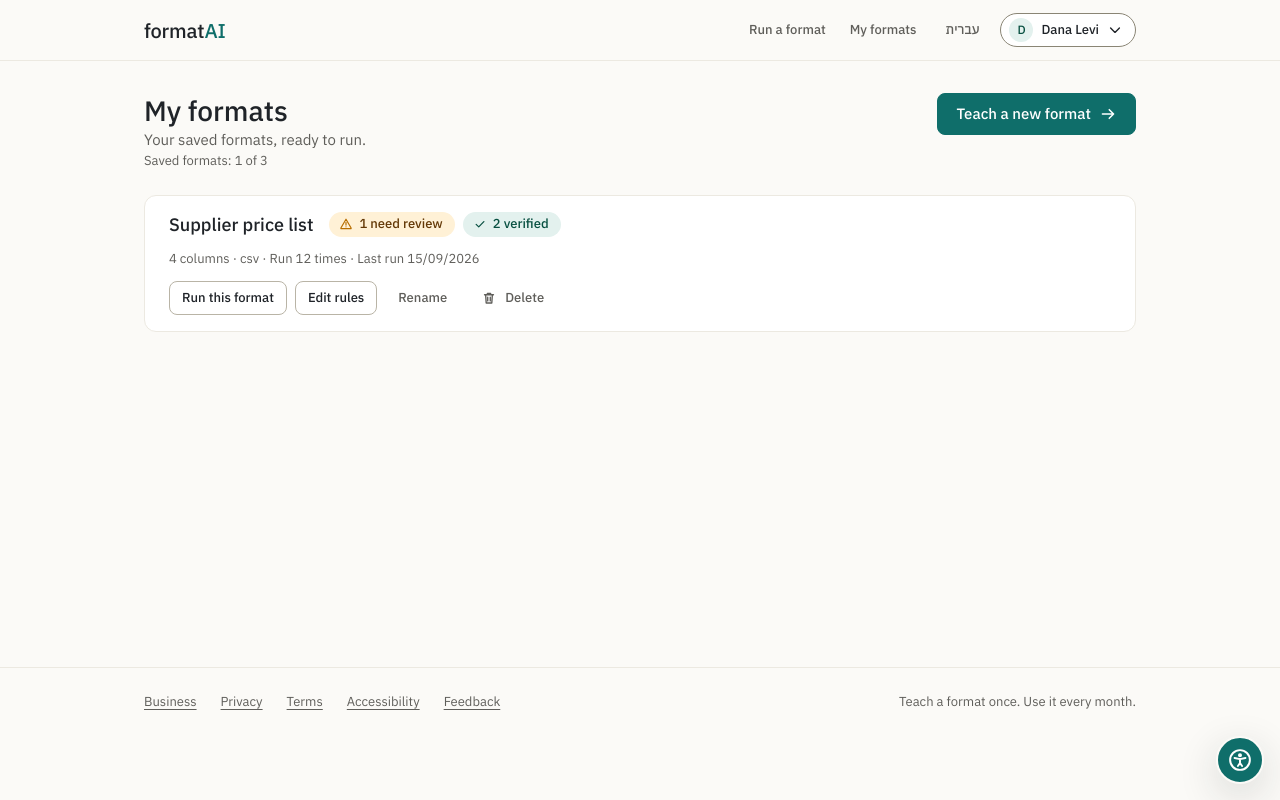
My formats › rename › Enter saves, an unchanged or empty name just closes, and a failure says so
Expected: the list with test id "format-list" is shown, [144,195,1136,332]
Click the button "Rename".
click(423, 298)  # box [385,281,460,315]
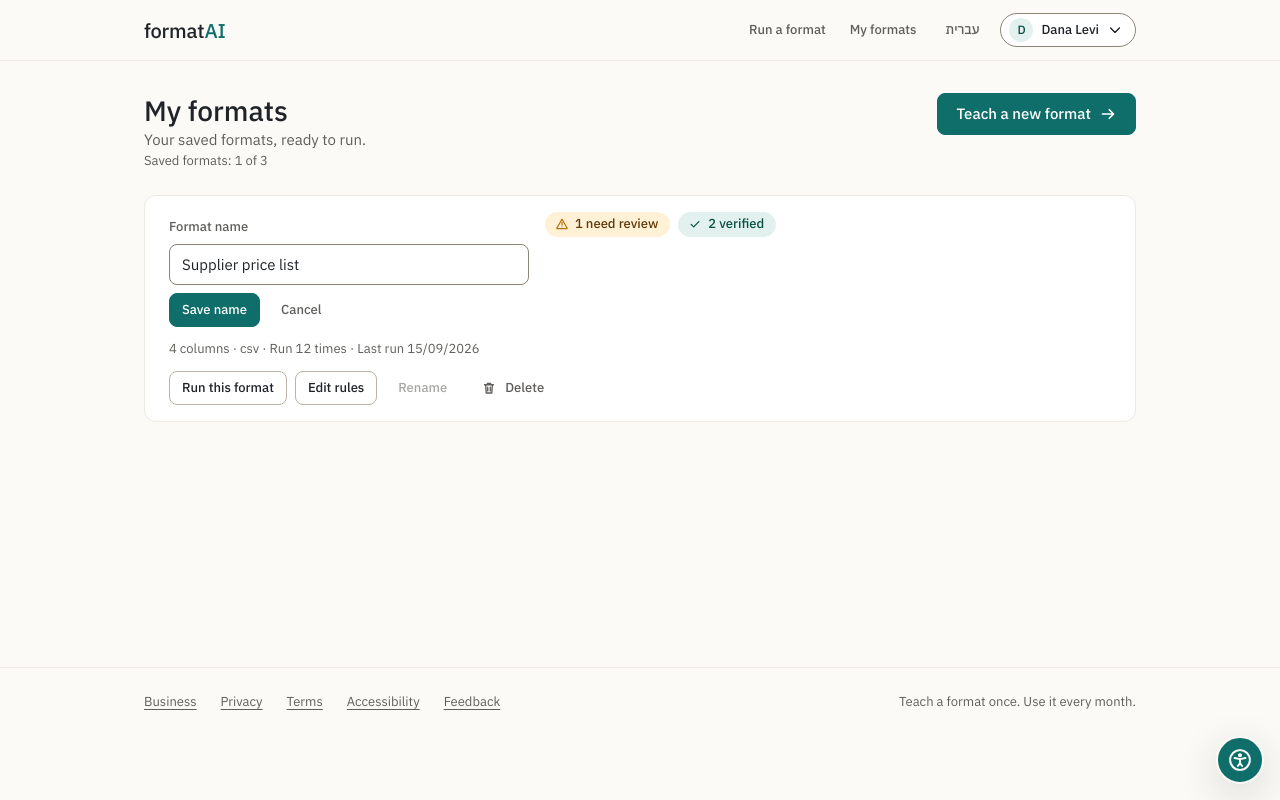
Click the button "Save name".
click(214, 310)  # box [169,293,260,327]
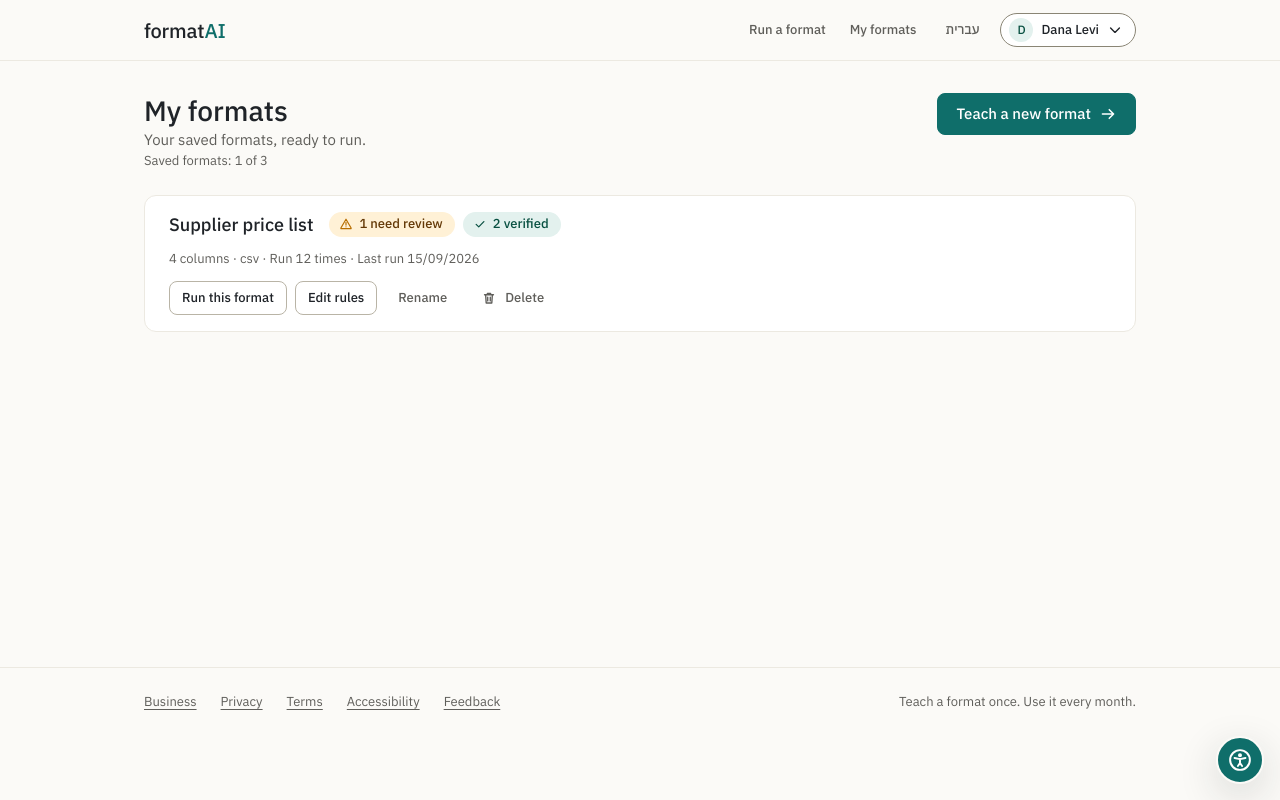
Expected: the label labelled "Format name" is gone
Click the button "Rename".
click(423, 298)  # box [385,281,460,315]
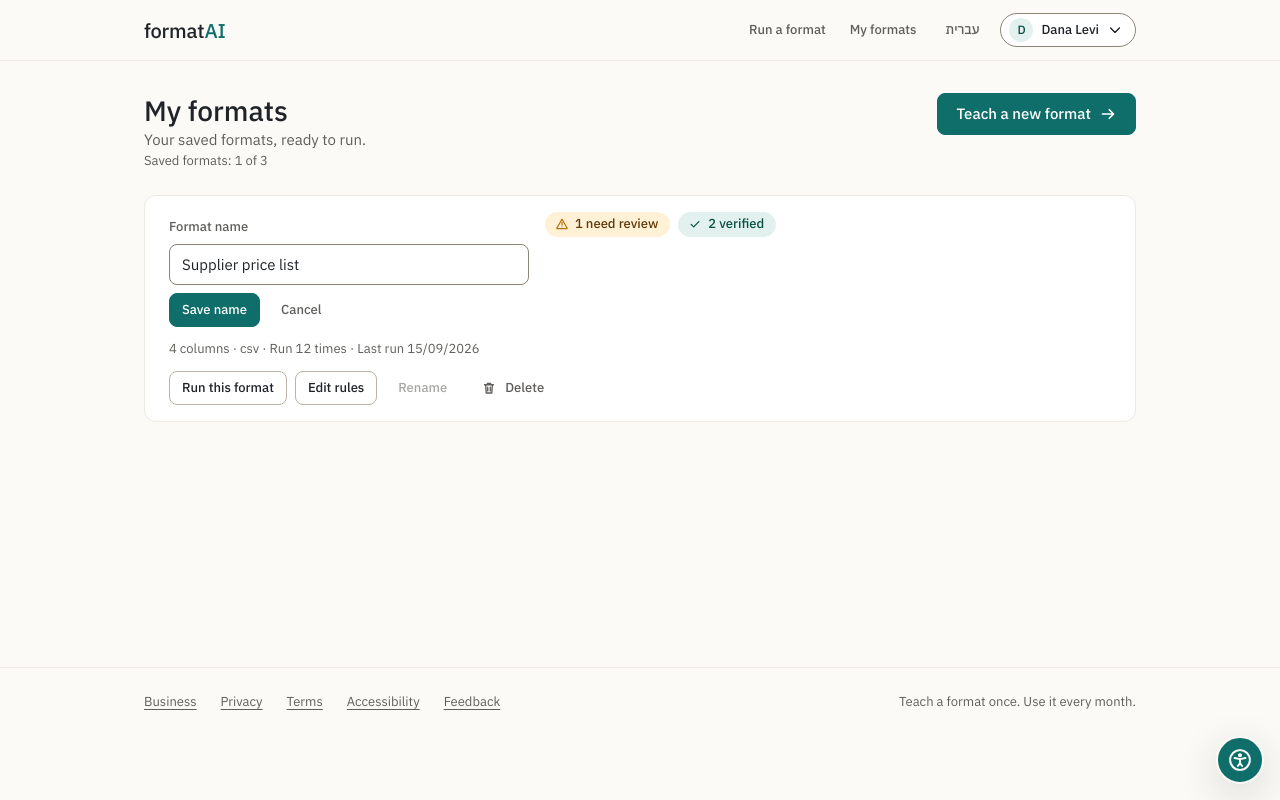
Replace the text in the field labelled "Format name" with "Another" at (349, 264), box [169,244,529,285]
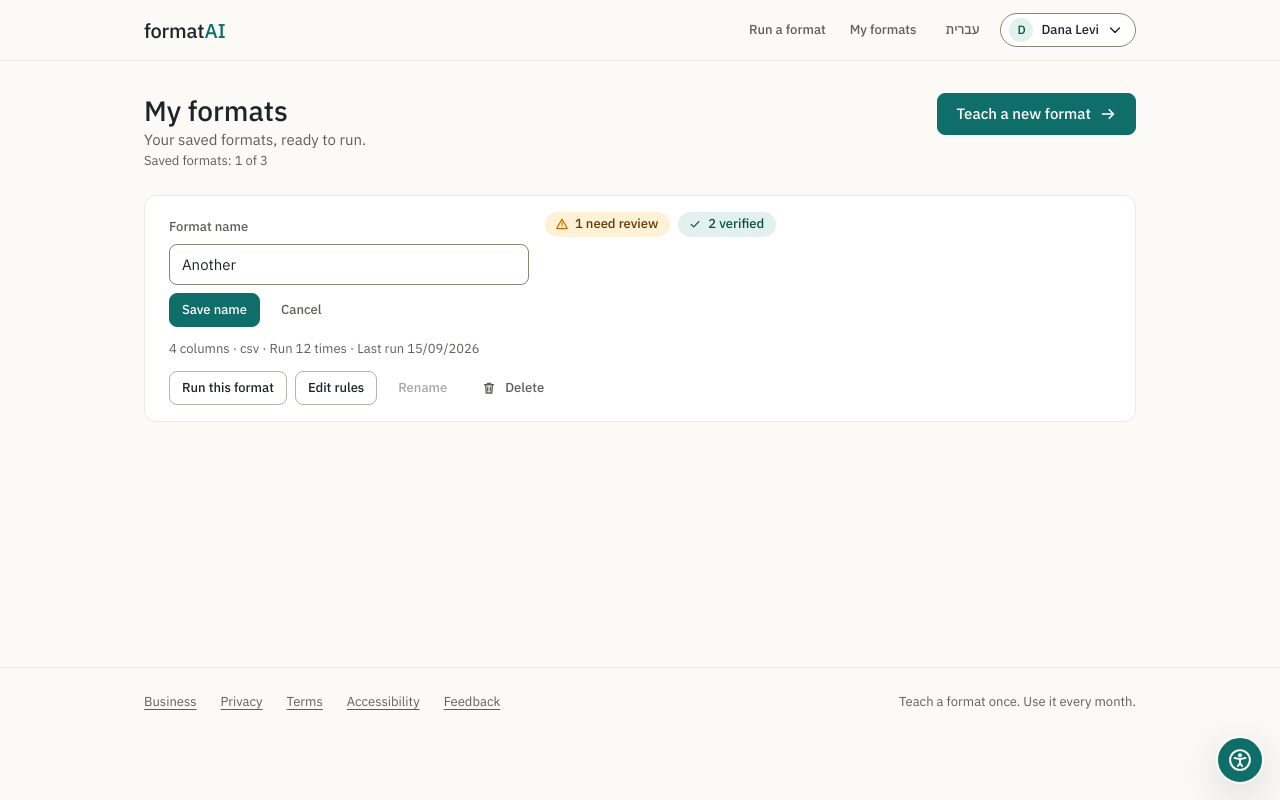
Submit the form, box [169,218,529,327]
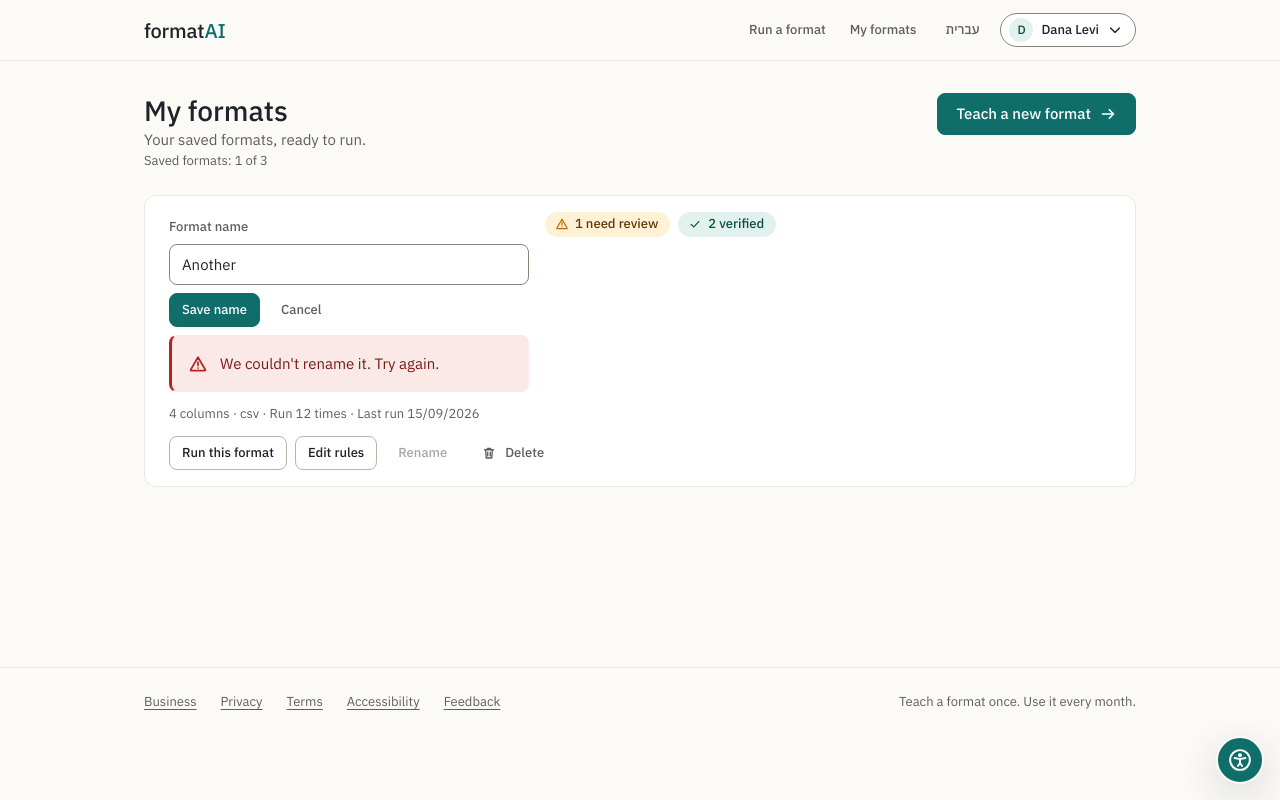
Expected: the text "We couldn't rename it. Try again." is shown, [220,352,439,375]
Note: the old name stays
Click the button "Cancel".
click(301, 310)  # box [268,293,334,327]
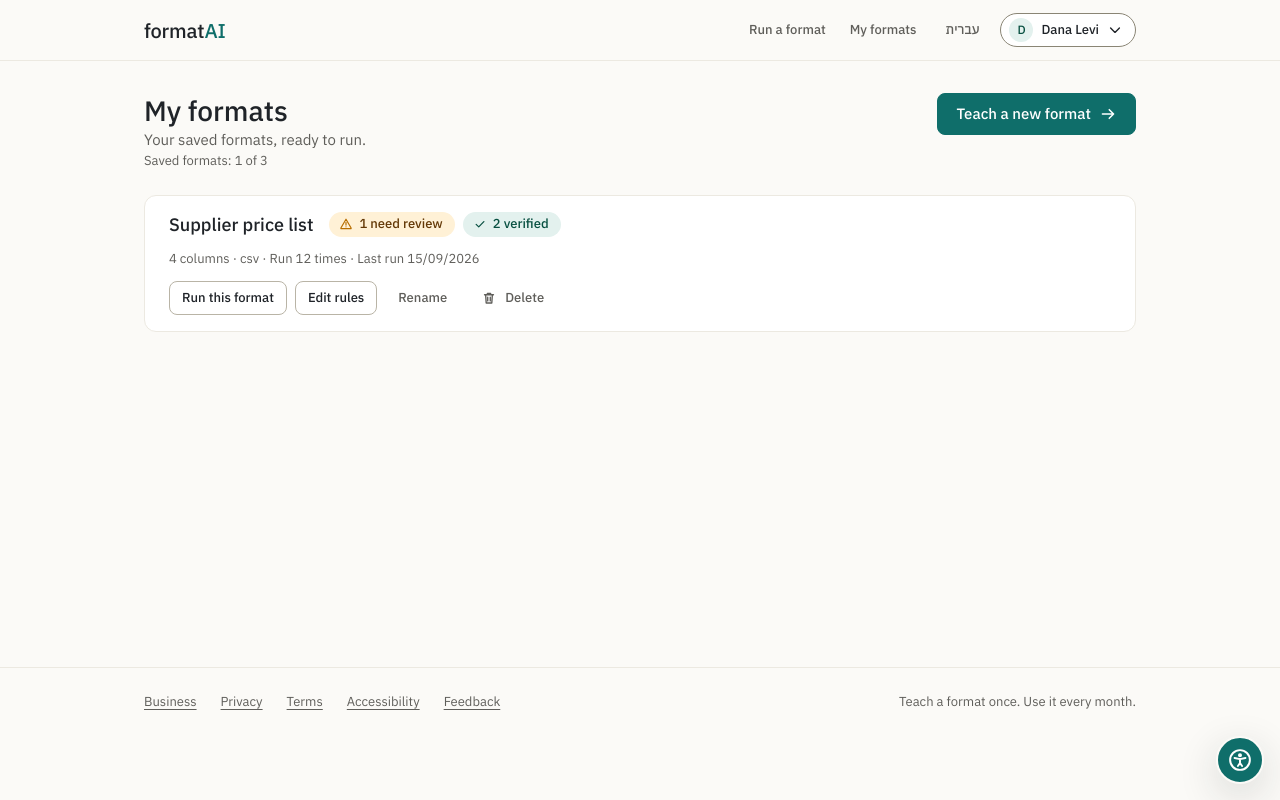
Expected: the heading "Supplier price list" is shown, [169,214,314,237]
